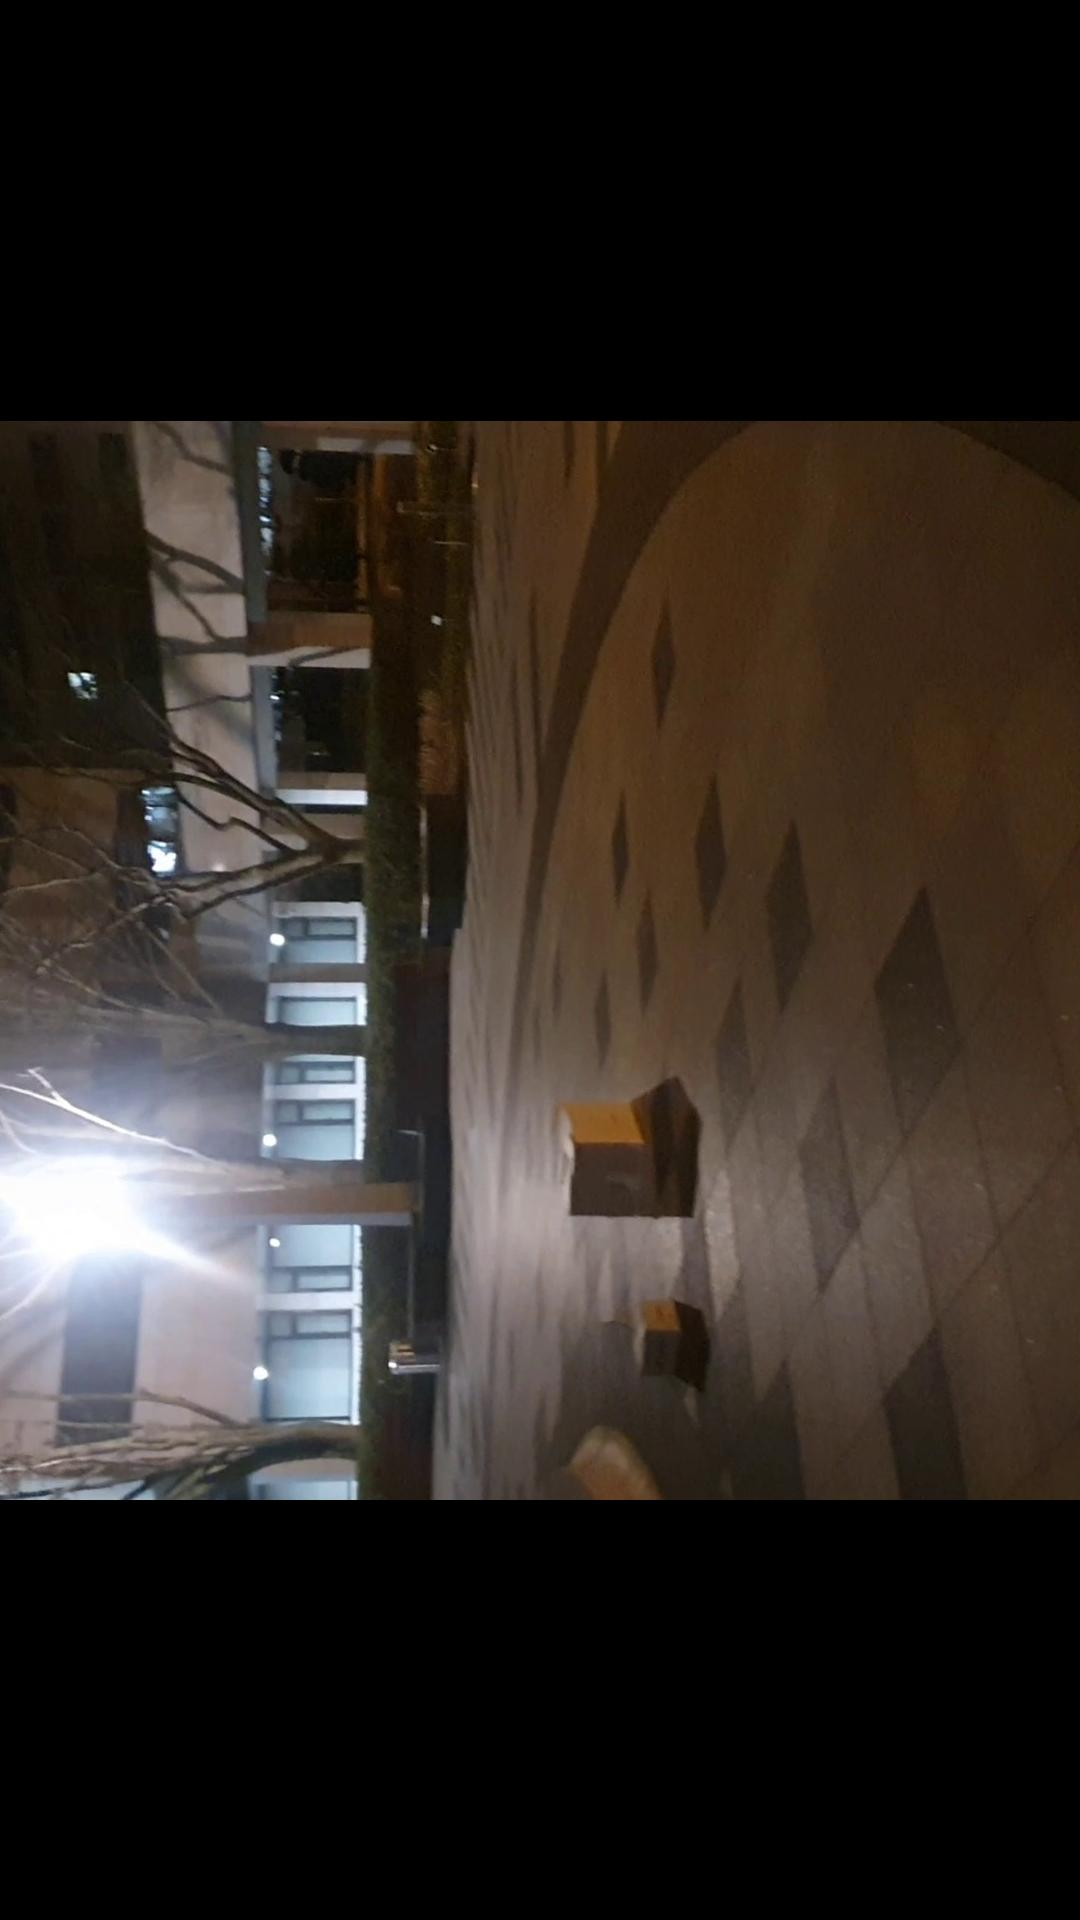Box: (541, 1093, 667, 1232), (622, 1303, 688, 1382)
